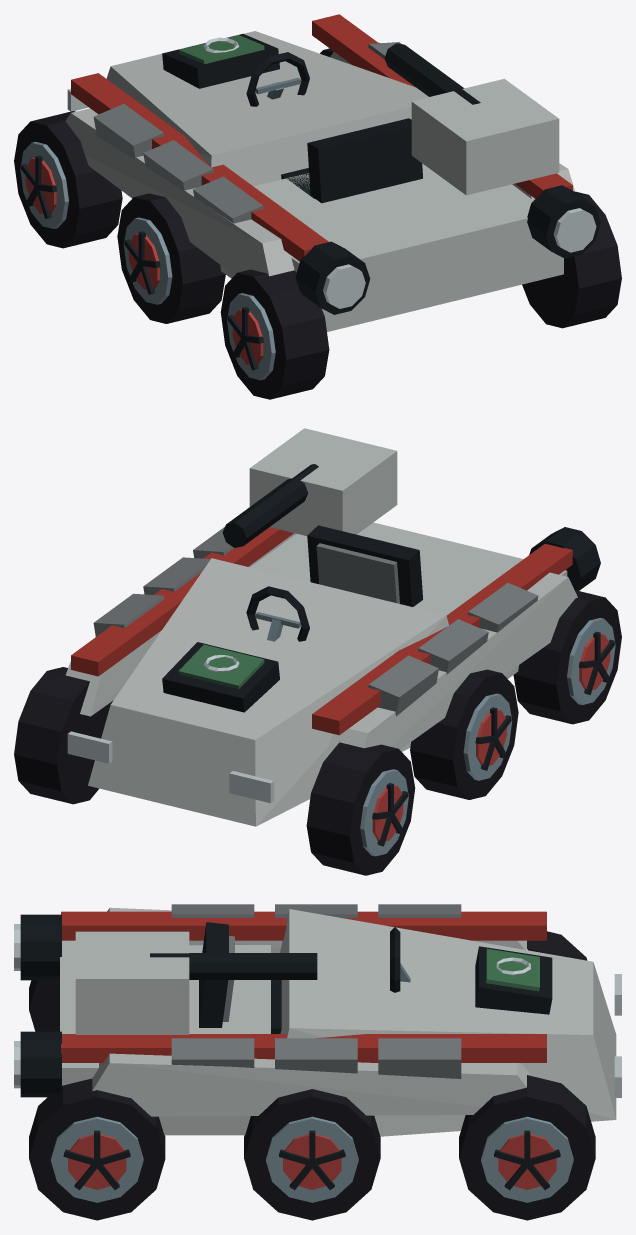
Rendered from kart.glb.
3 views of the same model, one above another, from view 1: azimuth 30°, elevation 25°; view 2: azimuth 150°, elevation 25°; view 3: azimuth 270°, elevation 25° (orthographic). The views are drawn at different scales.
Parts seen in each view (by area): view 1: identity-mako-mako-wedge-rover, wheel-rear-left, wheel-front-left, wheel-middle-left, identity-mako-driver-cockpit, identity-mako-motif-thrusters, identity-mako-motif-armor, wheel-rear-right, identity-mako-motif-scanner; view 2: identity-mako-mako-wedge-rover, wheel-front-left, wheel-middle-left, identity-mako-motif-armor, wheel-rear-left, wheel-front-right, identity-mako-driver-cockpit, identity-mako-motif-scanner, identity-mako-motif-thrusters; view 3: identity-mako-mako-wedge-rover, wheel-front-right, wheel-rear-right, wheel-middle-right, identity-mako-motif-armor, identity-mako-motif-thrusters, identity-mako-motif-scanner, identity-mako-driver-cockpit, wheel-rear-left, wheel-front-left.
Boxes of the visible parts, x1=… form: identity-mako-mako-wedge-rover: x1=65, y1=14, x2=575, y2=331; wheel-rear-left: x1=220, y1=269, x2=329, y2=399; wheel-front-left: x1=14, y1=111, x2=122, y2=248; wheel-middle-left: x1=117, y1=193, x2=225, y2=323; identity-mako-driver-cockpit: x1=246, y1=52, x2=422, y2=203; identity-mako-motif-thrusters: x1=295, y1=185, x2=600, y2=314; identity-mako-motif-armor: x1=93, y1=42, x2=401, y2=223; wheel-rear-right: x1=522, y1=191, x2=621, y2=328; identity-mako-motif-scanner: x1=162, y1=34, x2=279, y2=88; identity-mako-mako-wedge-rover: x1=65, y1=428, x2=577, y2=826; wheel-front-left: x1=306, y1=742, x2=415, y2=875; wheel-middle-left: x1=410, y1=669, x2=518, y2=799; identity-mako-motif-armor: x1=93, y1=527, x2=538, y2=716; wheel-rear-left: x1=513, y1=590, x2=621, y2=724; wheel-front-right: x1=14, y1=667, x2=113, y2=804; identity-mako-driver-cockpit: x1=246, y1=525, x2=422, y2=641; identity-mako-motif-scanner: x1=162, y1=642, x2=279, y2=712; identity-mako-motif-thrusters: x1=529, y1=527, x2=600, y2=590; identity-mako-mako-wedge-rover: x1=60, y1=907, x2=621, y2=1136; wheel-front-right: x1=459, y1=1075, x2=595, y2=1220; wheel-rear-right: x1=29, y1=1078, x2=165, y2=1220; wheel-middle-right: x1=244, y1=1089, x2=380, y2=1220; identity-mako-motif-armor: x1=171, y1=904, x2=461, y2=1078; identity-mako-motif-thrusters: x1=14, y1=914, x2=61, y2=1097; identity-mako-motif-scanner: x1=475, y1=946, x2=552, y2=1014; identity-mako-driver-cockpit: x1=199, y1=922, x2=410, y2=1033; wheel-rear-left: x1=29, y1=980, x2=59, y2=1031; wheel-front-left: x1=527, y1=931, x2=587, y2=960.
Bounding box in the file's own units: 2.07 × 1.19 × 2.94.
